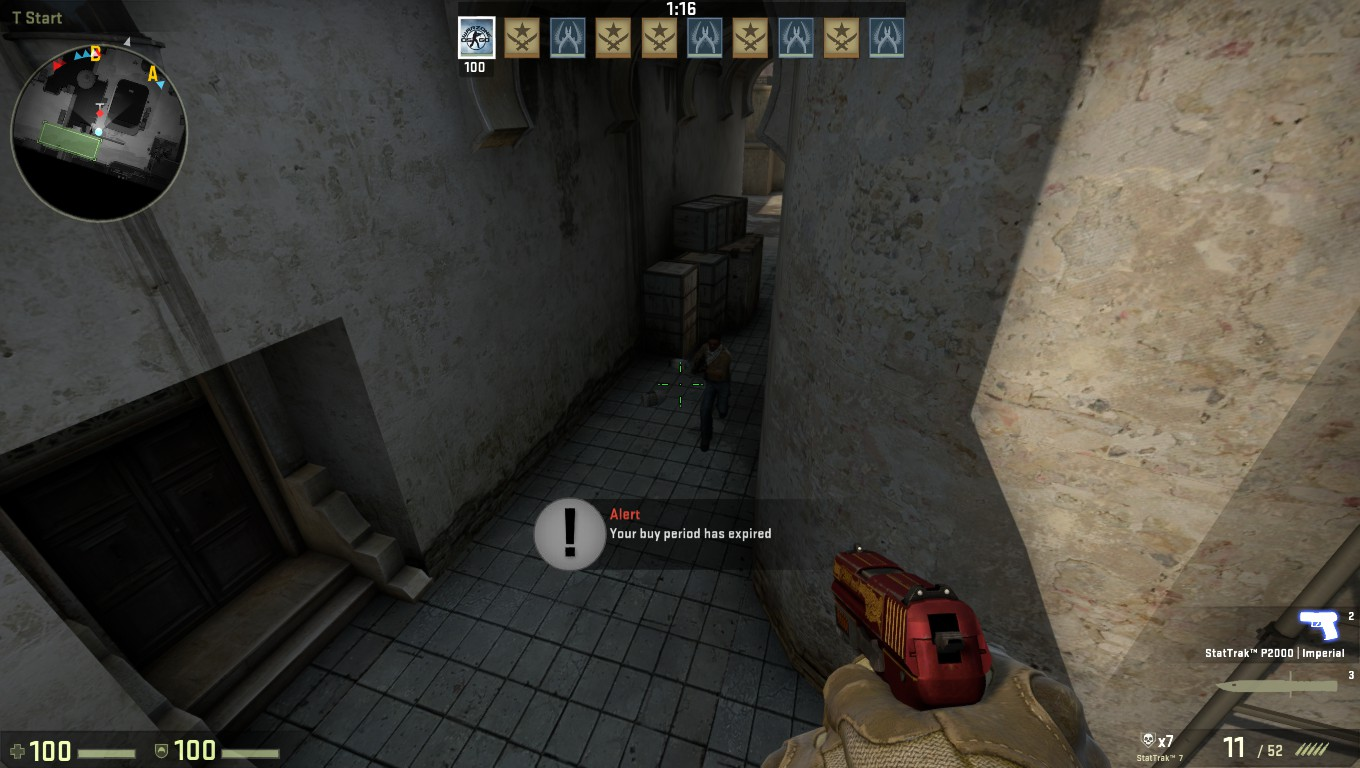t: (691, 328, 735, 450)
th: (702, 328, 726, 358)
